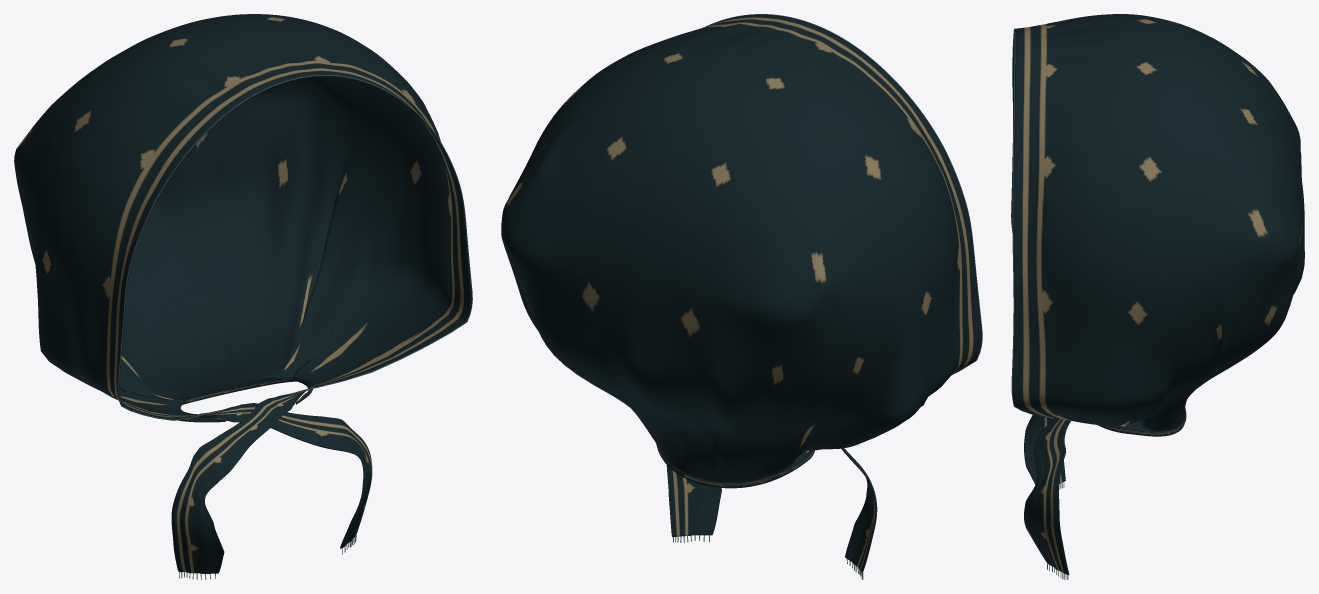
The model's file is Feminine-space-buns-sweatshirt-pashmina249-headgear.glb.
3 renders of one model, left to right at view 1: azimuth 30°, elevation 25°; view 2: azimuth 150°, elevation 25°; view 3: azimuth 270°, elevation 25°, orthographic. The views are drawn at different scales.
Visible parts, largest first — view 1: 226 headgear / Headwear / continuous woven pashmina239, 226 headgear / Headwear / face edge239; view 2: 226 headgear / Headwear / continuous woven pashmina239, 226 headgear / Headwear / face edge239; view 3: 226 headgear / Headwear / continuous woven pashmina239, 226 headgear / Headwear / face edge239.
Boxes of the visible parts, <box> form: 226 headgear / Headwear / continuous woven pashmina239: <box>14,14,471,573</box>; 226 headgear / Headwear / face edge239: <box>118,75,472,420</box>; 226 headgear / Headwear / continuous woven pashmina239: <box>501,14,981,573</box>; 226 headgear / Headwear / face edge239: <box>703,14,982,374</box>; 226 headgear / Headwear / continuous woven pashmina239: <box>1011,14,1304,575</box>; 226 headgear / Headwear / face edge239: <box>1011,28,1050,417</box>.
Size of the model in its own units: 1.05 by 1.36 by 0.7241.
3 materials, 1 textured.
